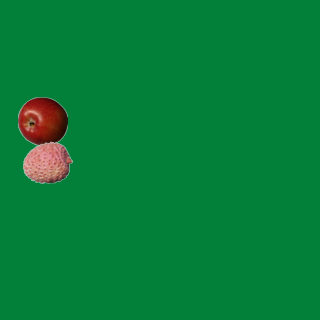Apple Braeburn: (17, 96, 67, 146)
Lychee: (22, 137, 72, 187)
